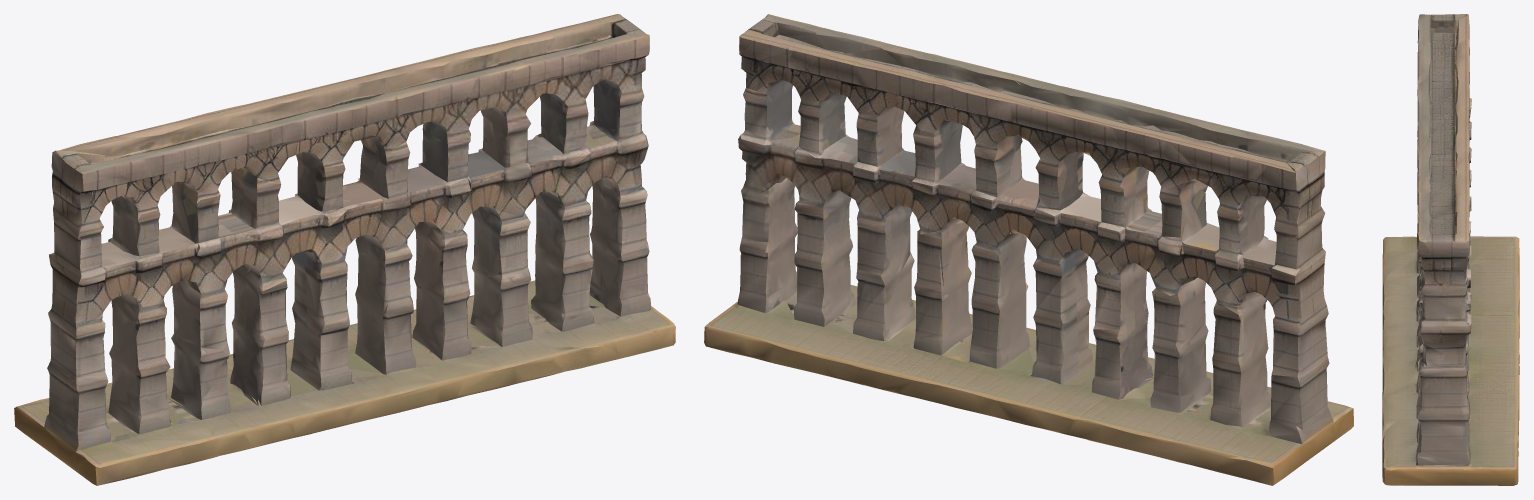
The model's file is segovia-aqueduct.glb.
The picture shows the model from 3 angles, left to right: view 1: azimuth 30°, elevation 25°; view 2: azimuth 150°, elevation 25°; view 3: azimuth 270°, elevation 25°; orthographic projection. The views are drawn at different scales.
Parts seen in each view (by area): view 1: logan-textured.obj; view 2: logan-textured.obj; view 3: logan-textured.obj.
Boxes of the visible parts, <box> form: logan-textured.obj: <box>14,14,675,485</box>; logan-textured.obj: <box>704,14,1353,485</box>; logan-textured.obj: <box>1382,14,1519,485</box>.
Size of the model in its own units: 1 by 0.4879 by 0.2494.
Materials: 1 (1 with a texture image).
